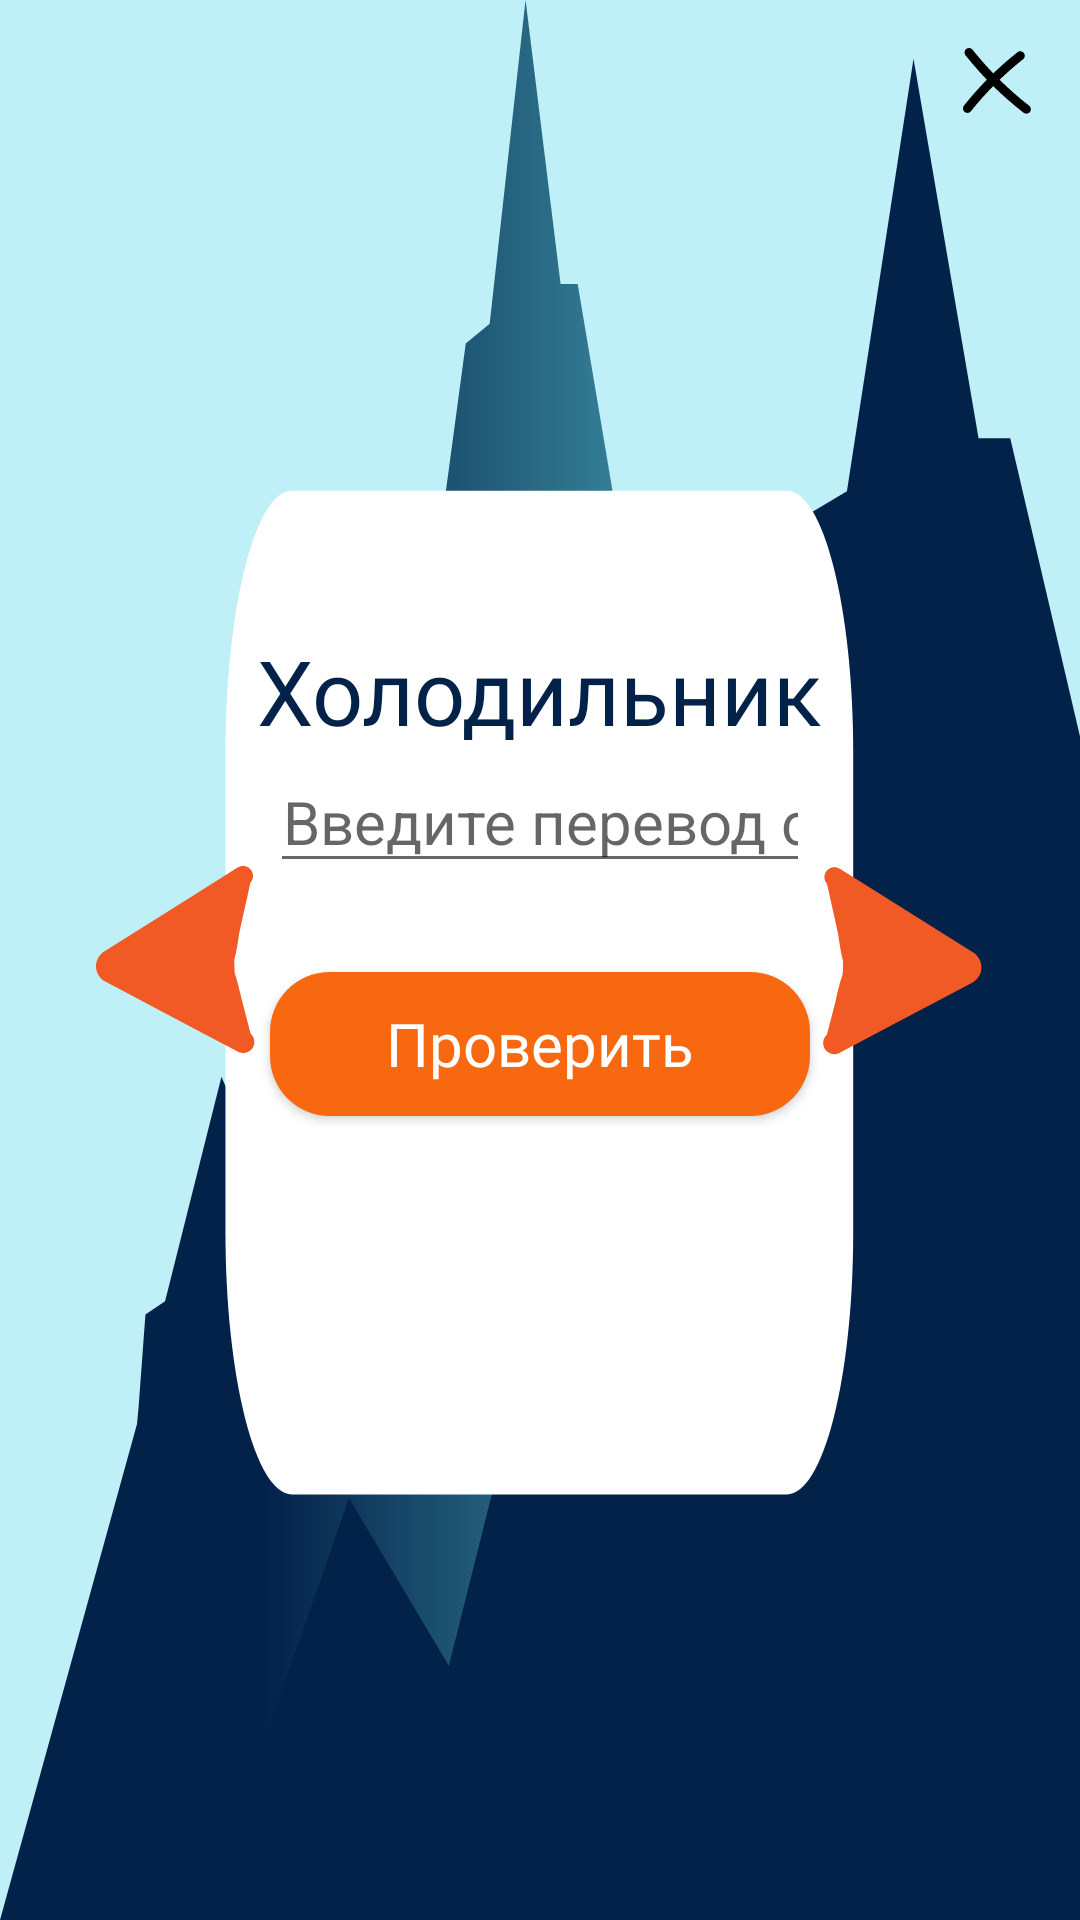

Named icons in this screenshot (1080 × 1920) and their centers, (x,y):
cross: (997,81)
toleft: (175,960)
toright: (902,960)
